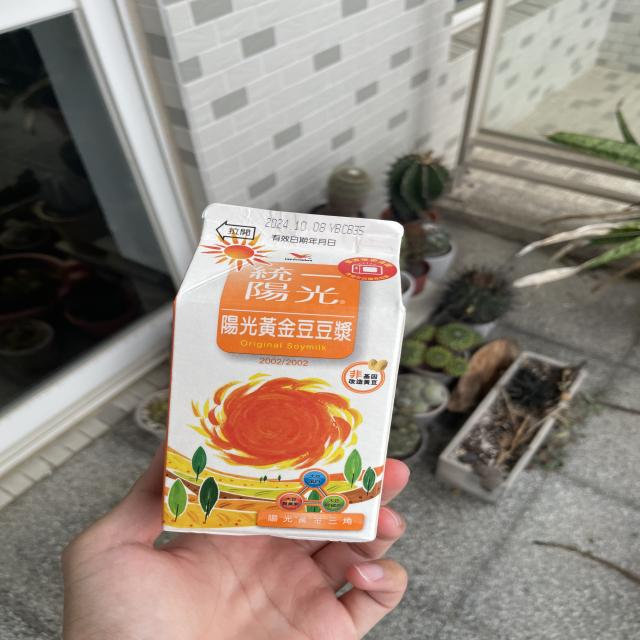TongYi_SoyMilk: (162, 199, 404, 540)
